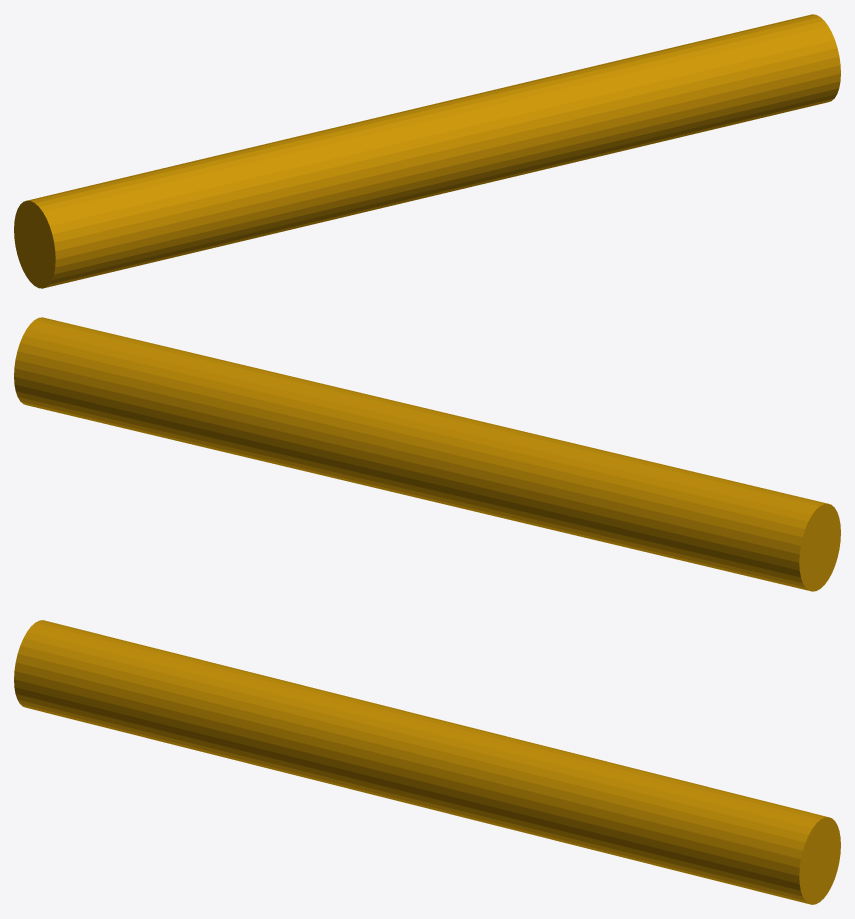
Rendered from rowcrop_Cylinder.003.dae.
The picture shows the model from 3 angles, top to bottom: view 1: azimuth 30°, elevation 25°; view 2: azimuth 150°, elevation 25°; view 3: azimuth 330°, elevation 25°; orthographic projection.
Visible parts, largest first — view 1: Cylinder.003; view 2: Cylinder.003; view 3: Cylinder.003.
Boxes of the visible parts, <box> form: Cylinder.003: <box>14,14,840,288</box>; Cylinder.003: <box>14,317,840,591</box>; Cylinder.003: <box>14,620,840,904</box>.
Bounding box in the file's own units: 3.65 × 0.3351 × 0.3899.
